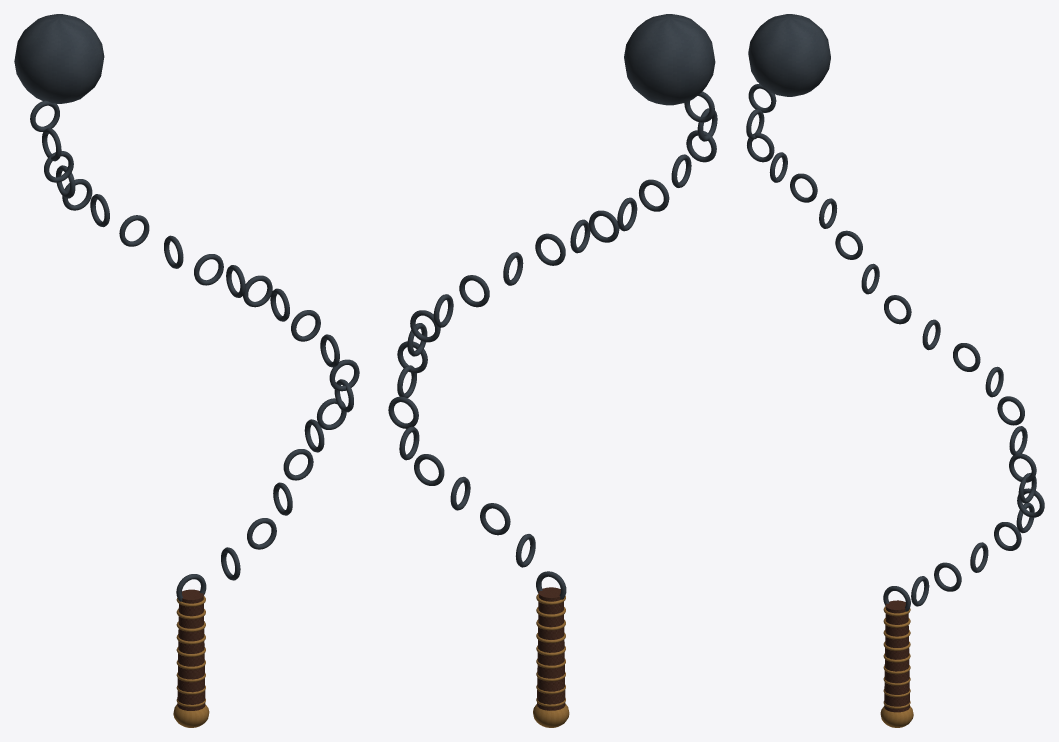
The model's file is weighted-chain.lod1.glb.
3 renders of one model, left to right at view 1: azimuth 30°, elevation 25°; view 2: azimuth 150°, elevation 25°; view 3: azimuth 330°, elevation 25°, orthographic. The views are drawn at different scales.
Parts seen in each view (by area): view 1: iron.36, leather.0, brass.10; view 2: iron.36, leather.0, brass.10; view 3: iron.36, leather.0, brass.10.
Boxes of the visible parts, left/top/right/bottom form: iron.36: left=14, top=14, right=104, bottom=103; leather.0: left=177, top=589, right=205, bottom=710; brass.10: left=173, top=704, right=209, bottom=727; iron.36: left=624, top=14, right=715, bottom=105; leather.0: left=537, top=587, right=565, bottom=710; brass.10: left=533, top=703, right=569, bottom=727; iron.36: left=748, top=14, right=830, bottom=96; leather.0: left=884, top=600, right=909, bottom=712; brass.10: left=880, top=706, right=913, bottom=727.
Bounding box in the file's own units: 0.6576 × 1.43 × 0.1624.
Materials: 3 (3 with a texture image).
